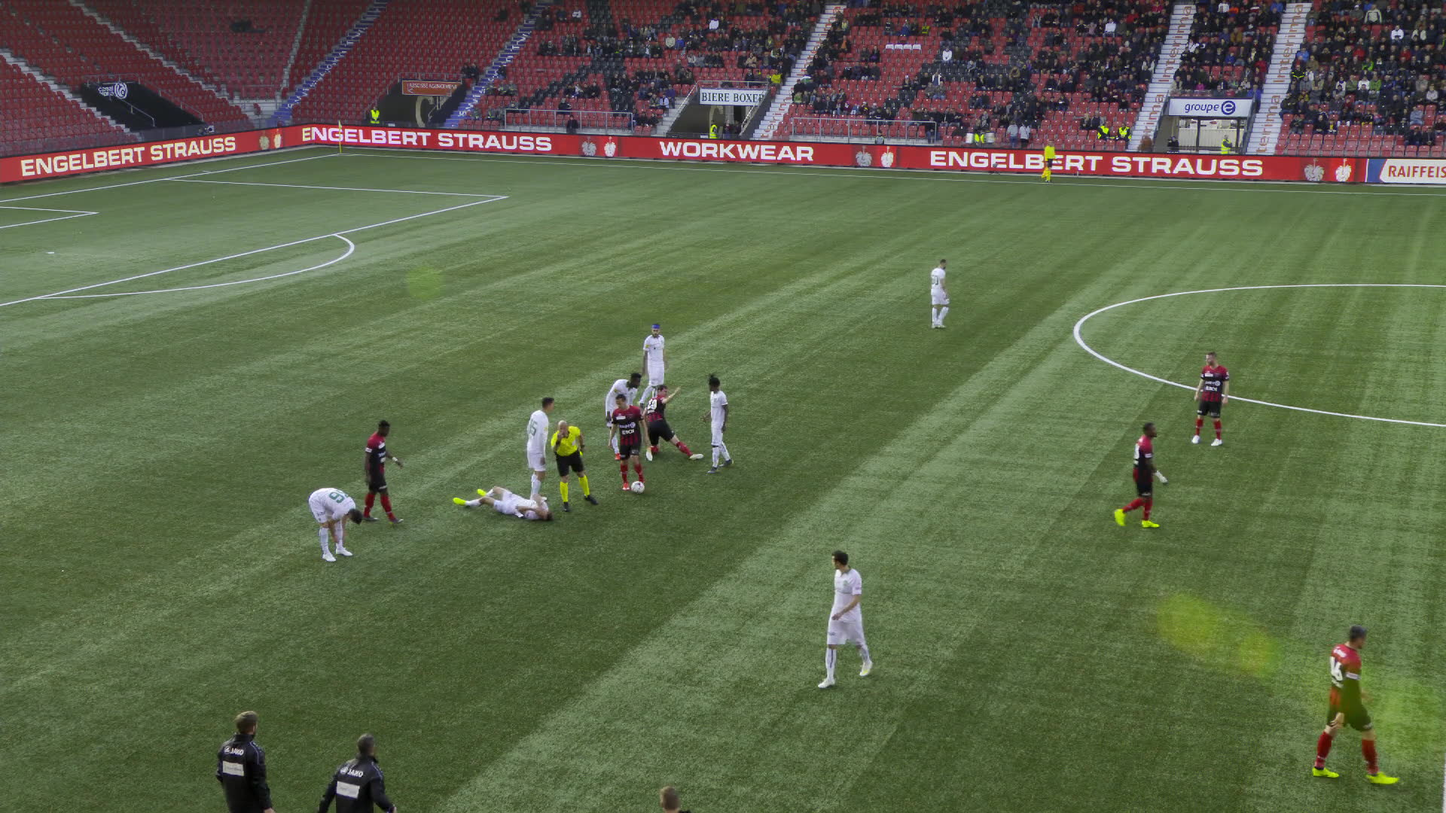ball: (632, 481, 645, 493)
player: (1313, 623, 1380, 784), (816, 547, 869, 684), (1110, 422, 1169, 528), (642, 384, 702, 459), (361, 419, 399, 525), (607, 393, 648, 491), (308, 487, 362, 561), (1191, 352, 1228, 445), (453, 486, 551, 520), (701, 373, 732, 473), (605, 373, 640, 460), (525, 397, 554, 500), (637, 323, 666, 403), (924, 259, 950, 327)
referee: (551, 421, 597, 510), (1041, 139, 1054, 182)
